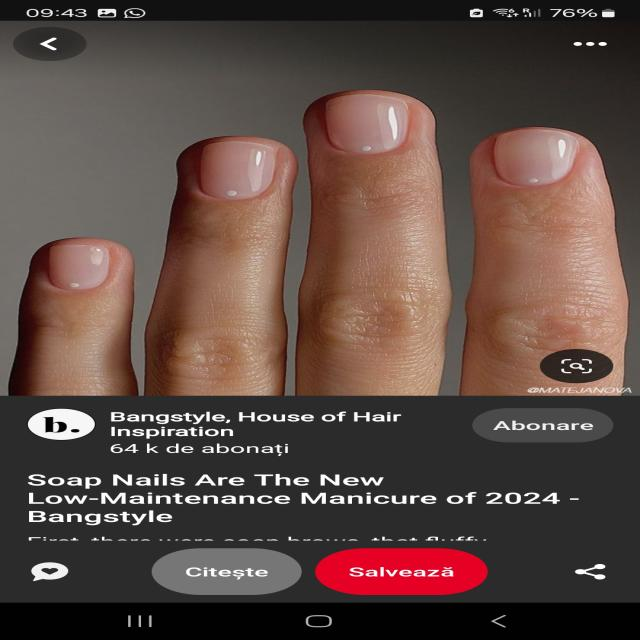hands: (18, 74, 633, 392)
